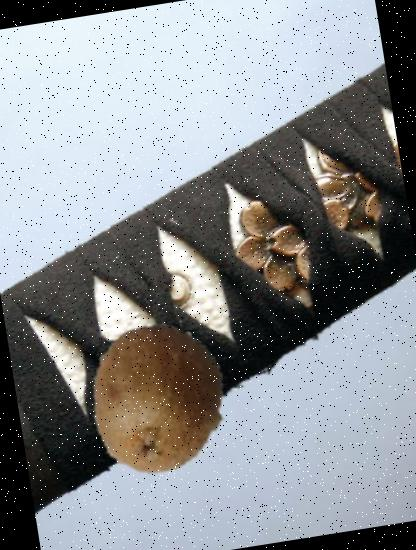Kiwi: (72, 314, 244, 486)
